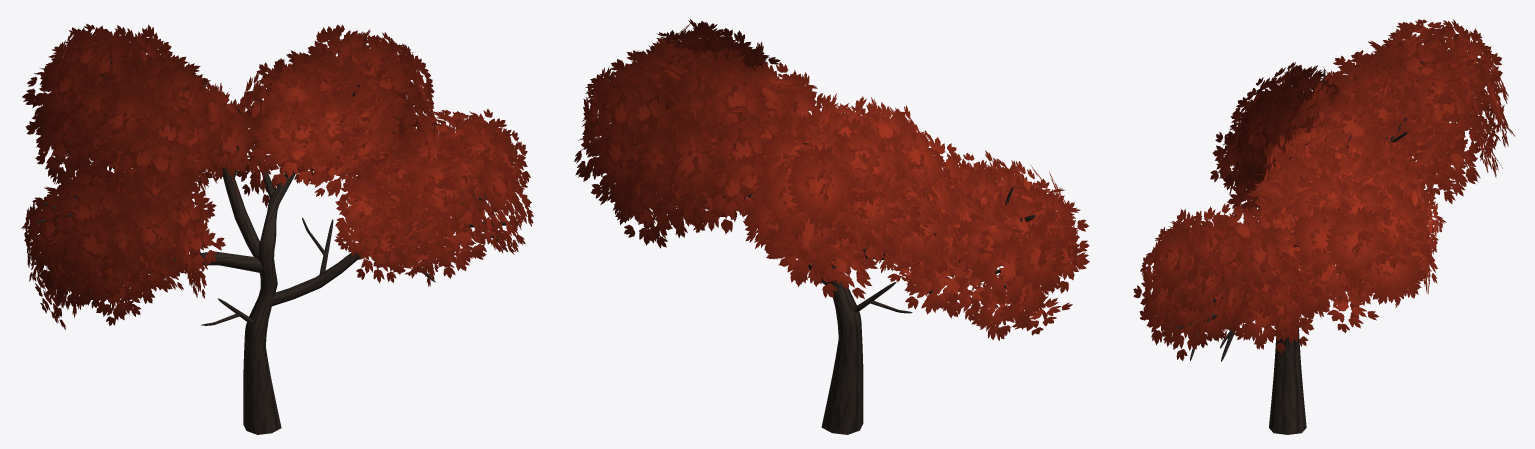
Rendered from maple_tree_3.glb.
The picture shows the model from 3 angles, left to right: view 1: azimuth 30°, elevation 25°; view 2: azimuth 150°, elevation 25°; view 3: azimuth 270°, elevation 25°; orthographic projection. The views are drawn at different scales.
Parts seen in each view (by area): view 1: MapleTree_32; view 2: MapleTree_32; view 3: MapleTree_32.
Boxes of the visible parts, bbox=[...] form: MapleTree_32: bbox=[21, 23, 533, 434]; MapleTree_32: bbox=[574, 19, 1089, 434]; MapleTree_32: bbox=[1133, 19, 1514, 434].
Bounding box in the file's own units: 8.98 × 6.99 × 6.61.
2 materials, 2 textured.
